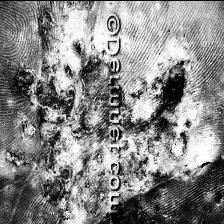Non-Cancerous Skin Condition: (0, 2, 103, 224), (123, 0, 224, 222)
